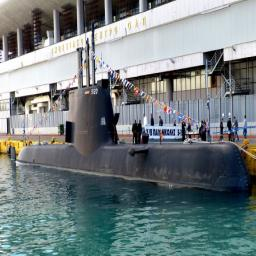submarine: (11, 26, 253, 193)
